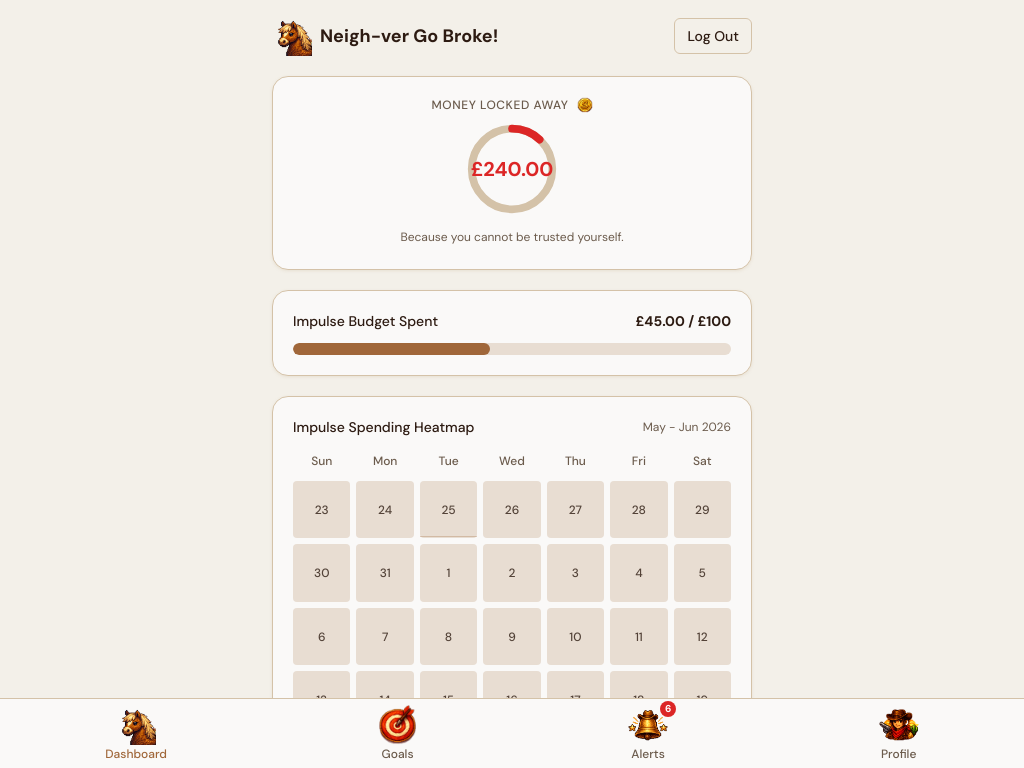
MainApp › switches to Alerts/Notifications tab
Click the text "Alerts".
click(648, 754)  # box [631, 746, 665, 762]
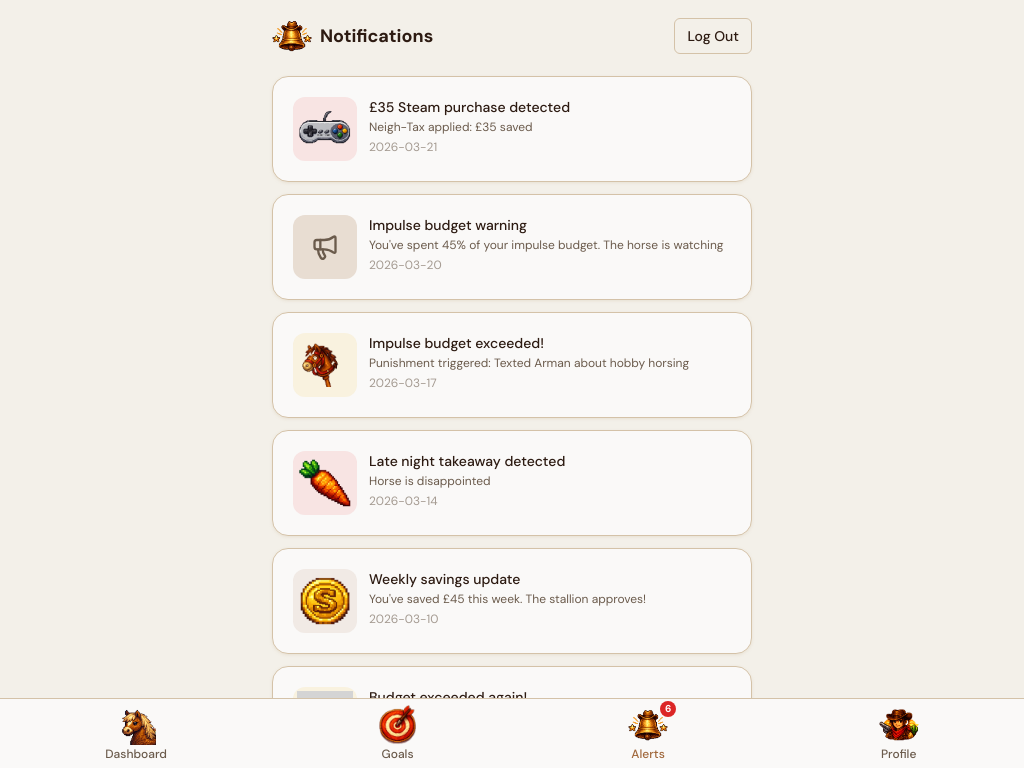
expect the heading "Notifications" is shown: met, box [320, 22, 433, 50]
